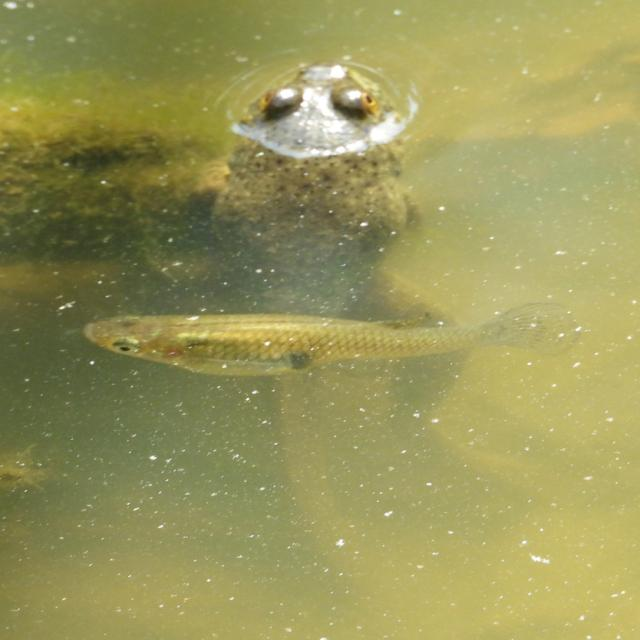Sivrisinek Baligi: (84, 299, 457, 379)
